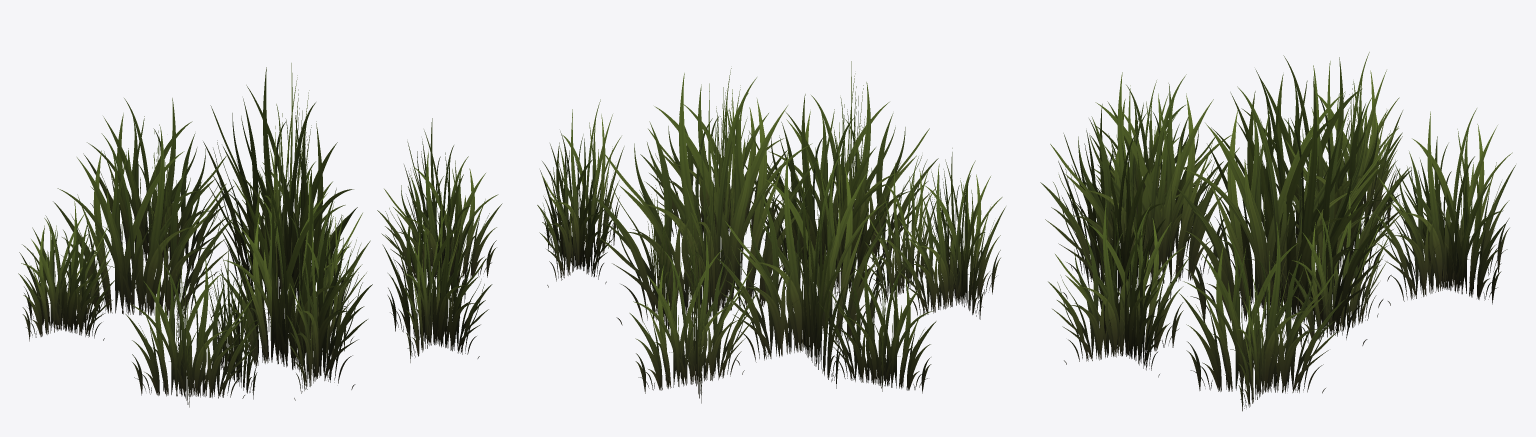
File: Grass_01.fbx
The picture shows the model from 3 angles, left to right: view 1: azimuth 30°, elevation 25°; view 2: azimuth 150°, elevation 25°; view 3: azimuth 270°, elevation 25°; orthographic projection. The views are drawn at different scales.
Parts seen in each view (by area): view 1: Grass_01; view 2: Grass_01; view 3: Grass_01.
Boxes of the visible parts, <box> form: Grass_01: <box>18,63,502,407</box>; Grass_01: <box>537,61,1005,403</box>; Grass_01: <box>1040,52,1515,411</box>.
Size of the model in its own units: 2.9 by 2.57 by 1.52.
